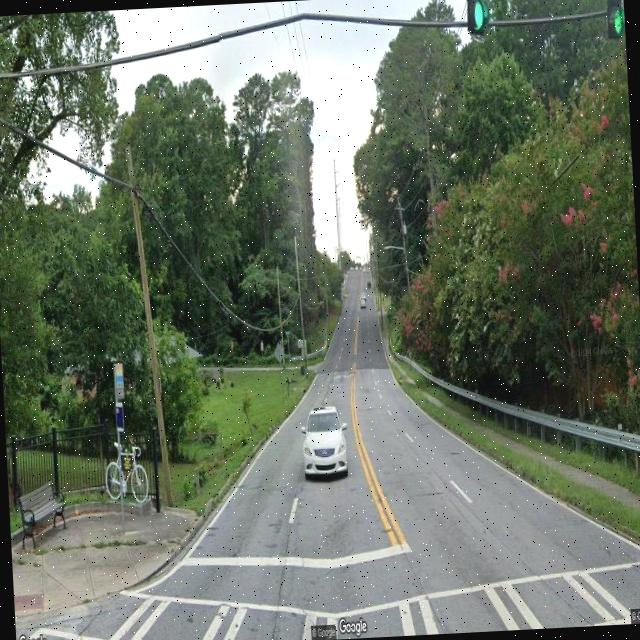seating: (18, 480, 68, 550)
